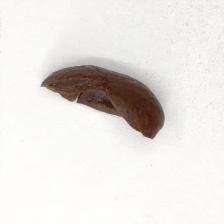NG: (39, 81, 153, 139)
